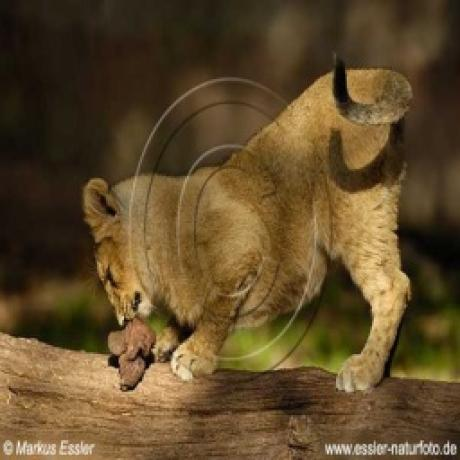Lion: (80, 52, 417, 392)
